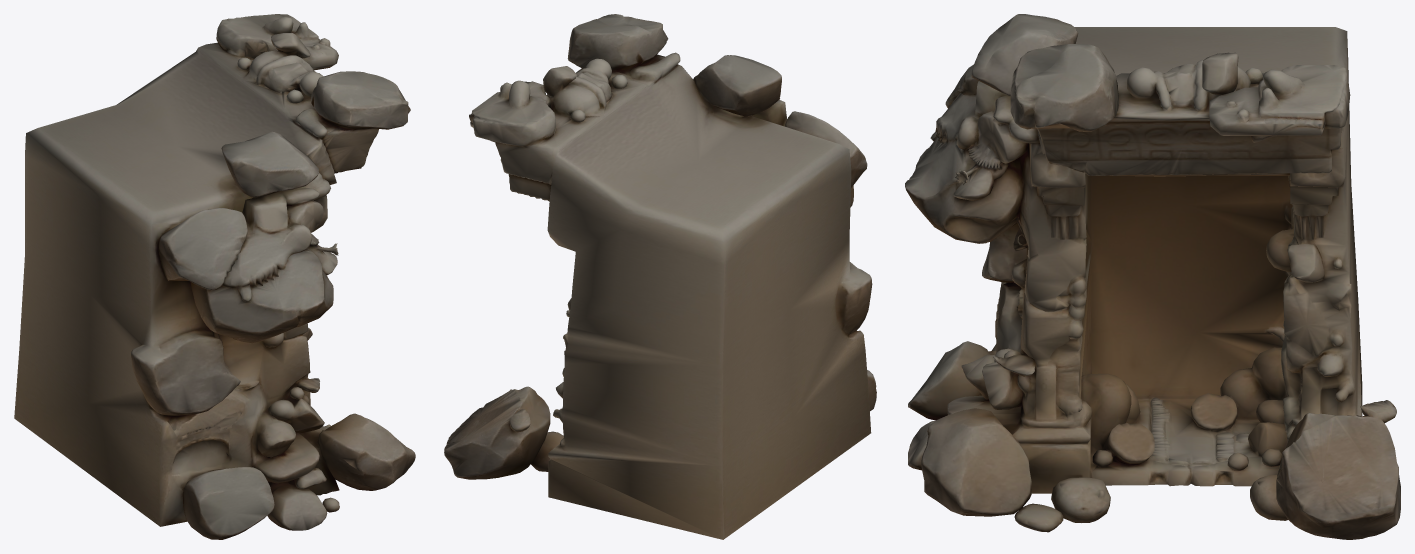
Rendered from fin_collapsed_cave_exit_LOD0.glb.
3 renders of one model, left to right at view 1: azimuth 30°, elevation 25°; view 2: azimuth 150°, elevation 25°; view 3: azimuth 270°, elevation 25°, orthographic. The views are drawn at different scales.
Visible parts, largest first — view 1: tripo_node_e22f4373-47d0-40c1-ba41-8e5068f57354; view 2: tripo_node_e22f4373-47d0-40c1-ba41-8e5068f57354; view 3: tripo_node_e22f4373-47d0-40c1-ba41-8e5068f57354.
Part boxes in pixels (x1=…): tripo_node_e22f4373-47d0-40c1-ba41-8e5068f57354: x1=14, y1=14, x2=415, y2=539; tripo_node_e22f4373-47d0-40c1-ba41-8e5068f57354: x1=444, y1=14, x2=876, y2=539; tripo_node_e22f4373-47d0-40c1-ba41-8e5068f57354: x1=905, y1=14, x2=1400, y2=539.
Size of the model in its own units: 0.7988 by 0.998 by 0.9551.
1 material, 1 textured.
